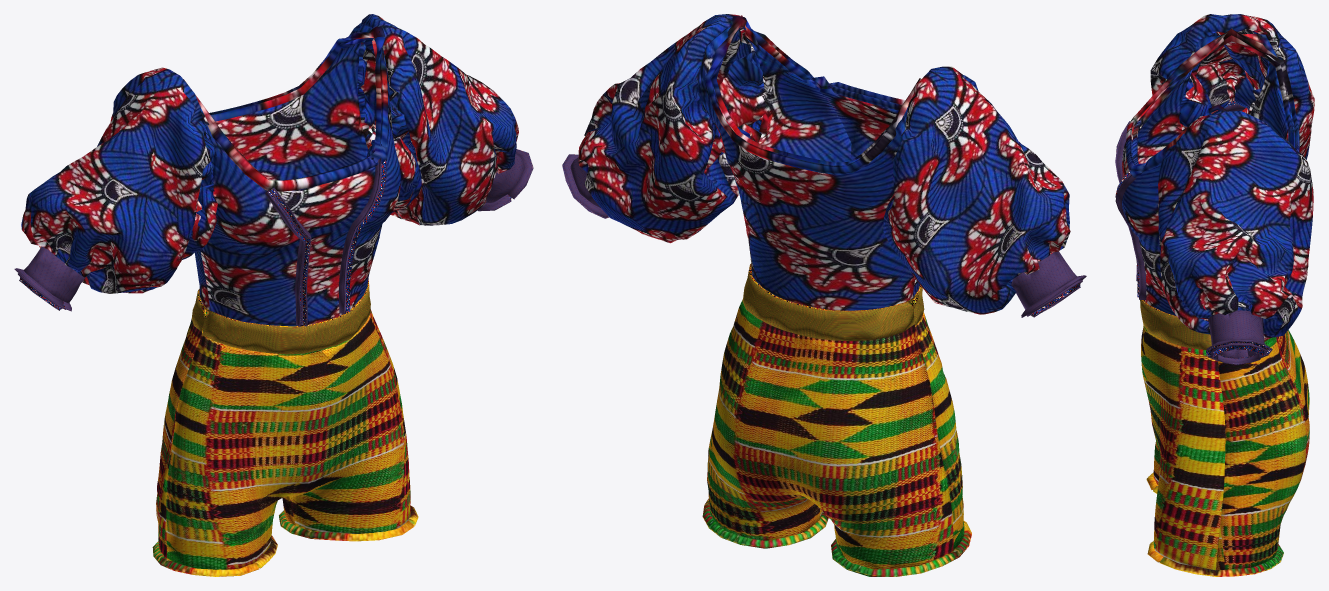
The model's file is female_topndown_top_down.glb.
The picture shows the model from 3 angles, left to right: view 1: azimuth 30°, elevation 25°; view 2: azimuth 150°, elevation 25°; view 3: azimuth 270°, elevation 25°; orthographic projection. The views are drawn at different scales.
Visible parts, largest first — view 1: mid_section, left_leg, left_hand, right_hand, right_leg, waist, left_hand_cuff, right_hand_cuff; view 2: mid_section, left_leg, left_hand, right_hand, right_leg, waist, left_hand_cuff, right_hand_cuff; view 3: right_leg, right_hand, mid_section, left_hand, right_hand_cuff, waist, left_leg.
Boxes of the visible parts, x1=… form: mid_section: x1=183, y1=24, x2=400, y2=326; left_leg: x1=152, y1=311, x2=336, y2=576; left_hand: x1=21, y1=67, x2=217, y2=293; right_hand: x1=349, y1=14, x2=518, y2=225; right_leg: x1=279, y1=309, x2=418, y2=541; waist: x1=191, y1=278, x2=370, y2=354; left_hand_cuff: x1=14, y1=246, x2=85, y2=311; right_hand_cuff: x1=478, y1=149, x2=533, y2=211; mid_section: x1=699, y1=15, x2=921, y2=310; left_leg: x1=776, y1=312, x2=971, y2=576; left_hand: x1=883, y1=66, x2=1070, y2=314; right_hand: x1=578, y1=14, x2=769, y2=243; right_leg: x1=702, y1=299, x2=828, y2=548; waist: x1=742, y1=263, x2=924, y2=340; left_hand_cuff: x1=1011, y1=251, x2=1086, y2=317; right_hand_cuff: x1=562, y1=154, x2=609, y2=218; right_leg: x1=1141, y1=326, x2=1309, y2=576; right_hand: x1=1158, y1=110, x2=1313, y2=340; mid_section: x1=1115, y1=28, x2=1299, y2=315; left_hand: x1=1150, y1=14, x2=1314, y2=159; right_hand_cuff: x1=1206, y1=310, x2=1272, y2=364; waist: x1=1140, y1=300, x2=1269, y2=349; left_leg: x1=1141, y1=325, x2=1309, y2=493.
Size of the model in its own units: 0.8159 by 0.7569 by 0.2918.
2 materials, 2 textured.
